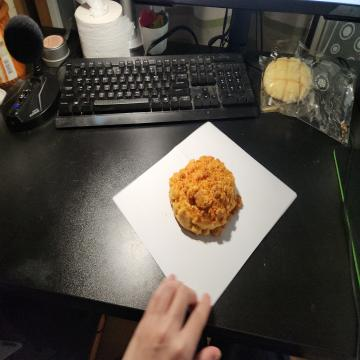soboru_bread: (168, 153, 242, 240)
